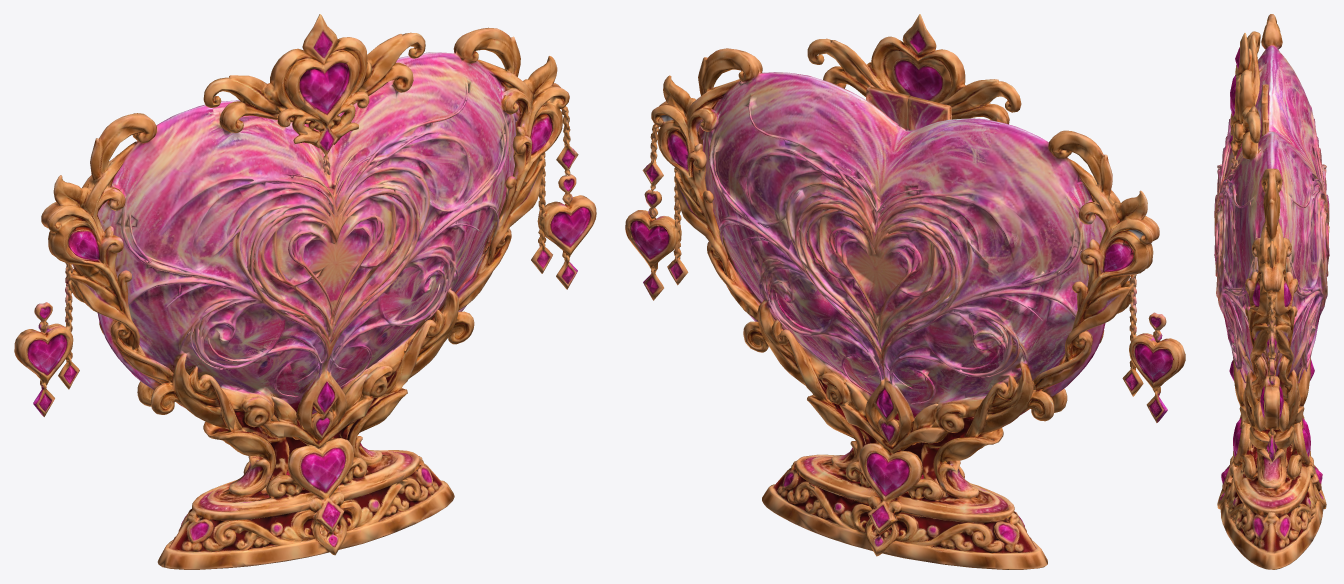
Rendered from heart-crystal.glb.
The picture shows the model from 3 angles, left to right: view 1: azimuth 30°, elevation 25°; view 2: azimuth 150°, elevation 25°; view 3: azimuth 270°, elevation 25°; orthographic projection. The views are drawn at different scales.
Size of the model in its own units: 1.9 by 1.68 by 0.3672.
1 material, 1 textured.
